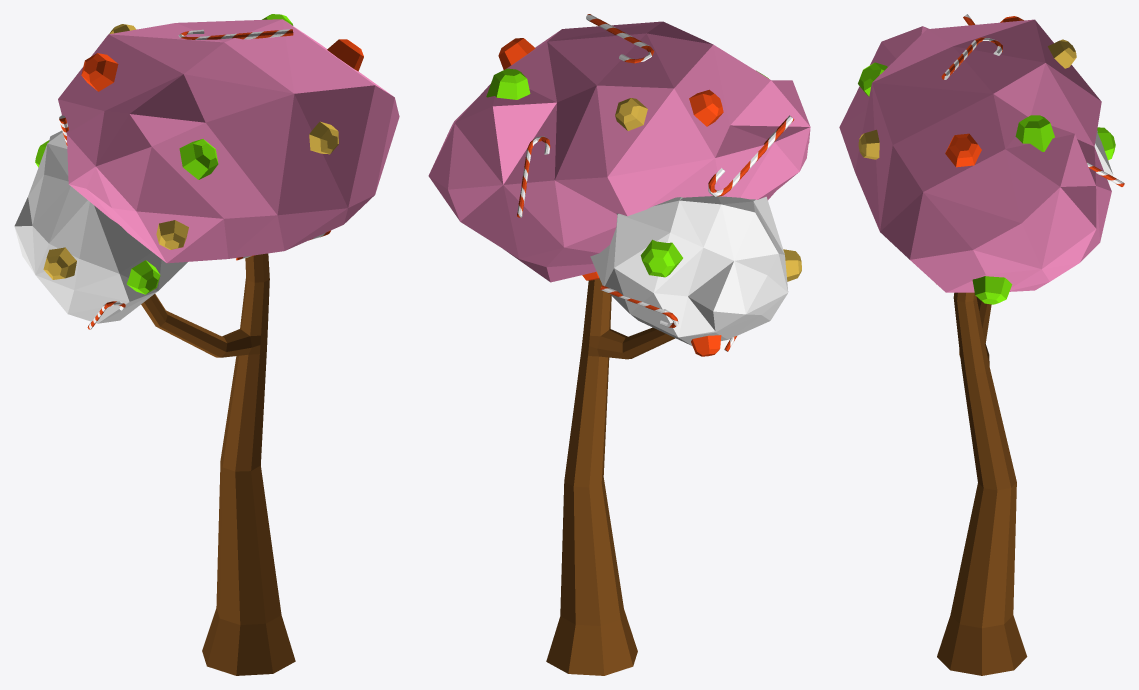
Rendered from Tree2.fbx.
3 views of the same model, side by side, from view 1: azimuth 30°, elevation 25°; view 2: azimuth 150°, elevation 25°; view 3: azimuth 270°, elevation 25° (orthographic). The views are drawn at different scales.
Visible parts, largest first — view 1: Tree_3; view 2: Tree_3; view 3: Tree_3.
Part boxes in pixels (<box>): Tree_3: <box>14,14,399,675</box>; Tree_3: <box>428,14,810,675</box>; Tree_3: <box>839,14,1124,675</box>.
Bounding box in the file's own units: 15.15 × 25.99 × 11.33.
Materials: 1 (1 with a texture image).
